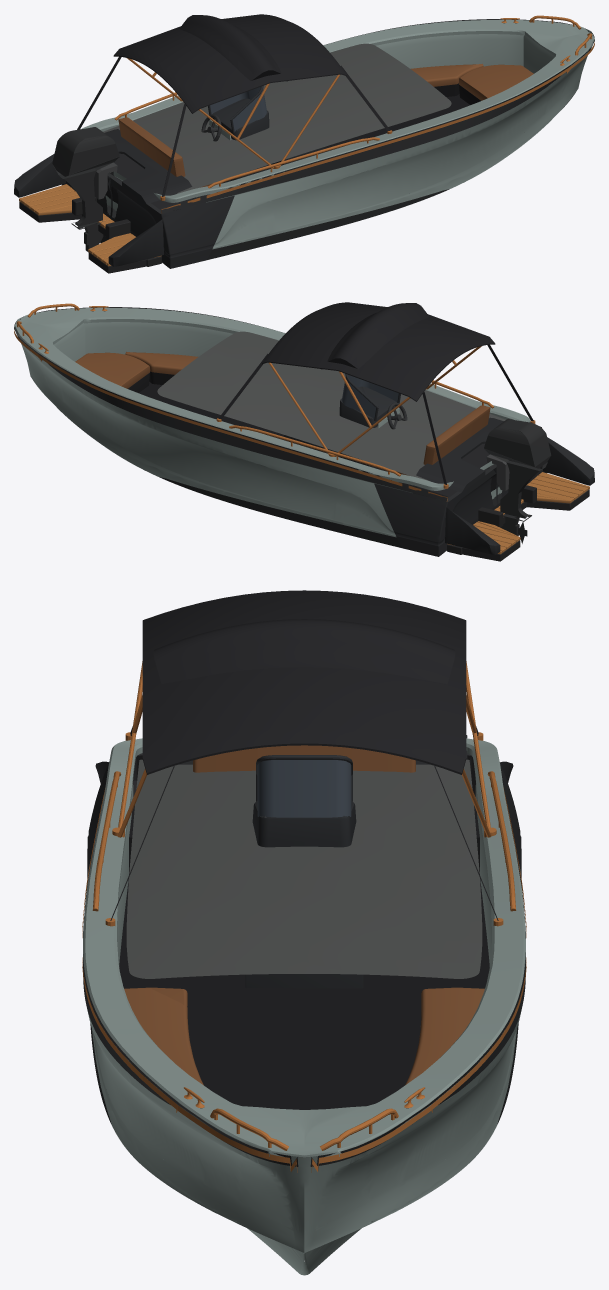
The model's file is PXL.glb.
3 renders of one model, top to bottom at view 1: azimuth 30°, elevation 25°; view 2: azimuth 150°, elevation 25°; view 3: azimuth 270°, elevation 25°, orthographic. The views are drawn at different scales.
Parts seen in each view (by area): view 1: accessory_cockpit_cover, hull_primary, bimini_canopy, gunwale_capping, transom_black, interior_hard_liner, hull_accent, motor, bimini_boot, stern_spoiler, platform_deck, hull_lower (+12 smaller); view 2: accessory_cockpit_cover, hull_primary, bimini_canopy, gunwale_capping, transom_black, interior_hard_liner, hull_accent, motor, bimini_boot, stern_spoiler, platform_deck, hull_lower (+12 smaller); view 3: accessory_cockpit_cover, bimini_canopy, hull_primary, cockpit_sole, gunwale_capping, bimini_boot, windshield, console_detail, cushion_lid_port, cushion_lid_starboard, hull_accent, upholstery_primary (+6 smaller).
Part boxes in pixels (left/top/right/bottom): accessory_cockpit_cover: left=103, top=43, right=451, bottom=193; hull_primary: left=212, top=29, right=592, bottom=249; bimini_canopy: left=113, top=14, right=346, bottom=113; gunwale_capping: left=81, top=19, right=594, bottom=202; transom_black: left=62, top=129, right=234, bottom=268; interior_hard_liner: left=105, top=34, right=554, bottom=211; hull_accent: left=107, top=19, right=594, bottom=213; motor: left=52, top=127, right=119, bottom=252; bimini_boot: left=179, top=15, right=287, bottom=81; stern_spoiler: left=14, top=154, right=163, bottom=266; platform_deck: left=19, top=184, right=161, bottom=266; hull_lower: left=107, top=189, right=449, bottom=259; accessory_cockpit_cover: left=157, top=331, right=505, bottom=481; hull_primary: left=16, top=317, right=396, bottom=537; bimini_canopy: left=262, top=302, right=495, bottom=401; gunwale_capping: left=14, top=307, right=530, bottom=490; transom_black: left=374, top=417, right=546, bottom=556; interior_hard_liner: left=54, top=322, right=502, bottom=499; hull_accent: left=14, top=307, right=541, bottom=501; motor: left=484, top=419, right=551, bottom=543; bimini_boot: left=321, top=303, right=429, bottom=369; stern_spoiler: left=445, top=437, right=594, bottom=554; platform_deck: left=447, top=472, right=589, bottom=554; hull_lower: left=159, top=477, right=501, bottom=547; accessory_cockpit_cover: left=126, top=759, right=482, bottom=978; bimini_canopy: left=142, top=590, right=466, bottom=774; hull_primary: left=87, top=864, right=521, bottom=1275; cockpit_sole: left=119, top=755, right=503, bottom=1109; gunwale_capping: left=83, top=738, right=525, bottom=1157; bimini_boot: left=153, top=619, right=455, bottom=684; windshield: left=257, top=760, right=351, bottom=817; console_detail: left=252, top=755, right=356, bottom=847; cushion_lid_port: left=124, top=987, right=203, bottom=1085; cushion_lid_starboard: left=405, top=987, right=484, bottom=1085; hull_accent: left=83, top=753, right=525, bottom=1166; upholstery_primary: left=193, top=745, right=415, bottom=772.
Bounding box in the file's own units: 5.76 × 2.1 × 2.1.
